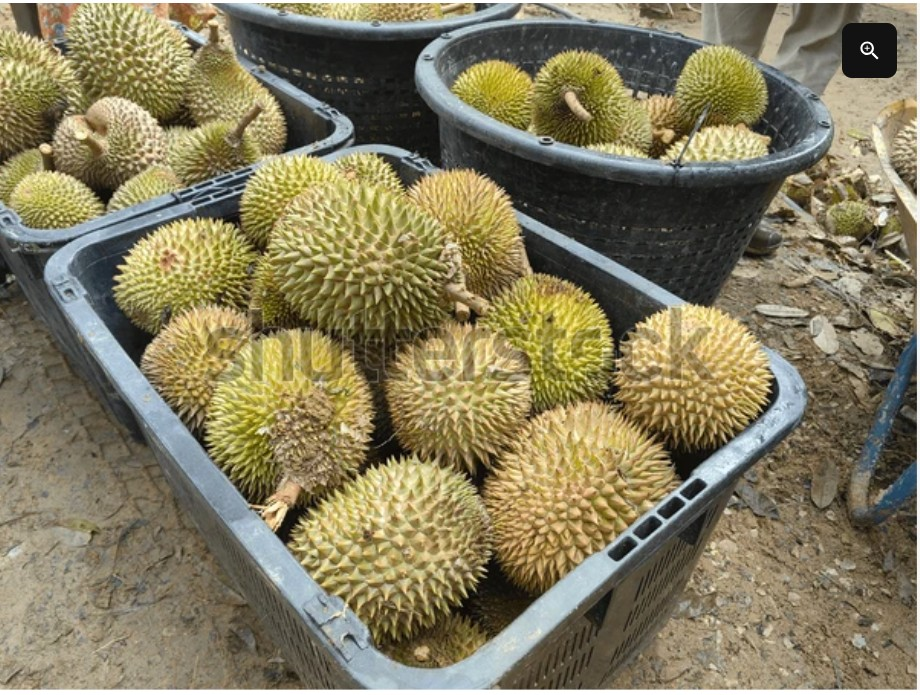bulk_waste: (46, 191, 806, 688), (416, 20, 833, 303), (518, 212, 683, 337), (323, 145, 438, 183)
normal_waste: (483, 401, 679, 593), (289, 455, 491, 640), (267, 181, 452, 339), (205, 329, 373, 502), (614, 304, 771, 450), (114, 218, 258, 333), (66, 3, 192, 119), (54, 97, 166, 190), (531, 50, 629, 145), (675, 45, 767, 127)
